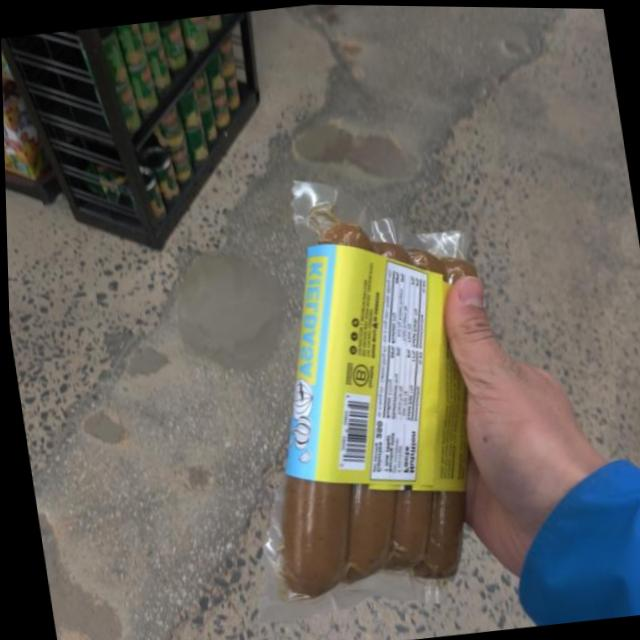Meat: (195, 176, 562, 639)
